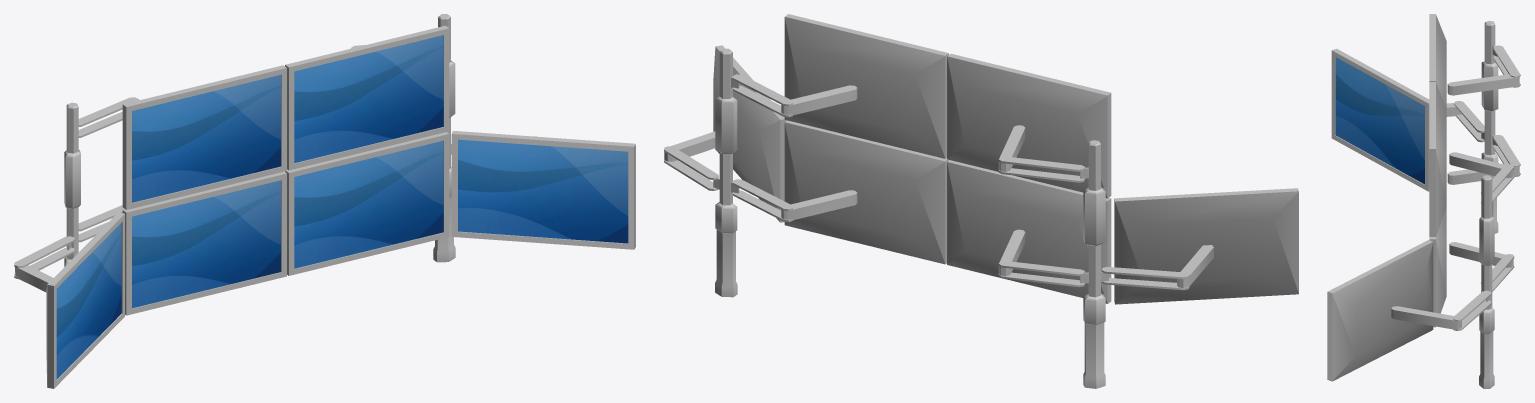
The model's file is Office_ComputerMonitor_2_4x2b.fbx.
3 renders of one model, left to right at view 1: azimuth 30°, elevation 25°; view 2: azimuth 150°, elevation 25°; view 3: azimuth 270°, elevation 25°, orthographic. The views are drawn at different scales.
Parts seen in each view (by area): view 1: Office_ComputerMonitor_2_4x2b, Scrn66, Scrn64, Scrn65, Scrn63, Scrn62, Scrn61; view 2: Office_ComputerMonitor_2_4x2b; view 3: Office_ComputerMonitor_2_4x2b, Scrn61.
Part boxes in pixels (bbox=[...]): Office_ComputerMonitor_2_4x2b: bbox=[14, 14, 635, 388]; Scrn66: bbox=[458, 139, 628, 243]; Scrn64: bbox=[294, 35, 443, 162]; Scrn65: bbox=[294, 140, 443, 268]; Scrn63: bbox=[132, 180, 280, 308]; Scrn62: bbox=[132, 75, 280, 202]; Scrn61: bbox=[56, 223, 121, 379]; Office_ComputerMonitor_2_4x2b: bbox=[664, 14, 1298, 388]; Office_ComputerMonitor_2_4x2b: bbox=[1327, 14, 1520, 388]; Scrn61: bbox=[1335, 57, 1424, 184].
Size of the model in its own units: 188 by 80.29 by 62.66.
